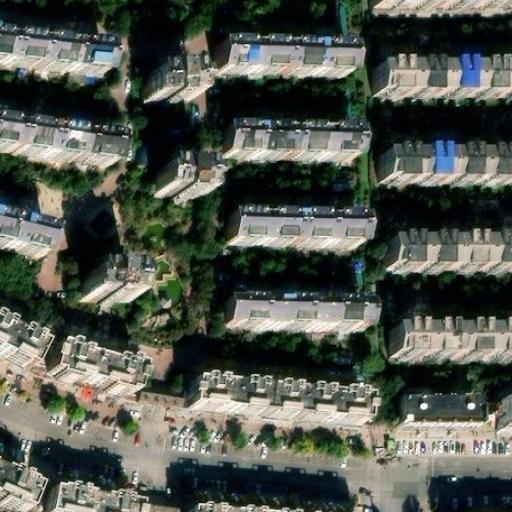building: (187, 377, 363, 423), (0, 122, 113, 173), (363, 60, 512, 97), (368, 145, 512, 183), (44, 336, 138, 391), (222, 294, 361, 331), (213, 125, 352, 162), (383, 321, 512, 360), (210, 43, 349, 79), (219, 212, 358, 248), (378, 237, 512, 273), (0, 38, 96, 82), (394, 403, 477, 431), (49, 488, 142, 512), (136, 81, 191, 120), (85, 259, 129, 306), (0, 465, 42, 512), (217, 498, 357, 512), (147, 180, 196, 216), (0, 222, 41, 263), (137, 391, 188, 408), (497, 399, 512, 427)
